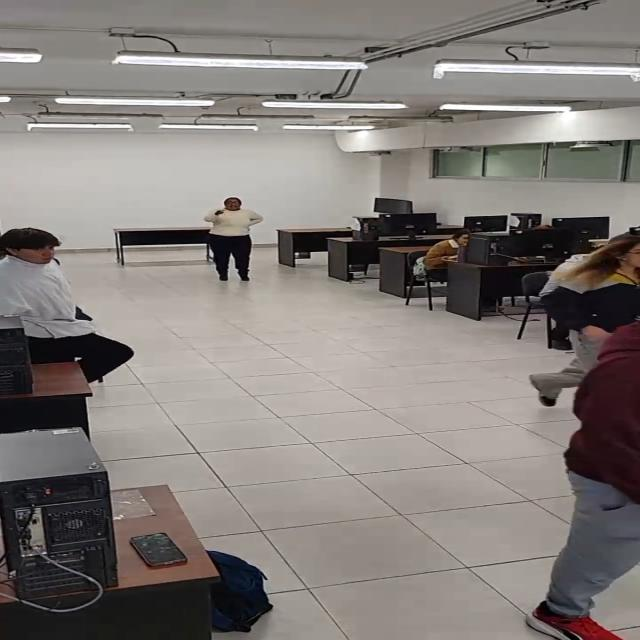Persona: (3, 231, 133, 376), (206, 195, 260, 283)
